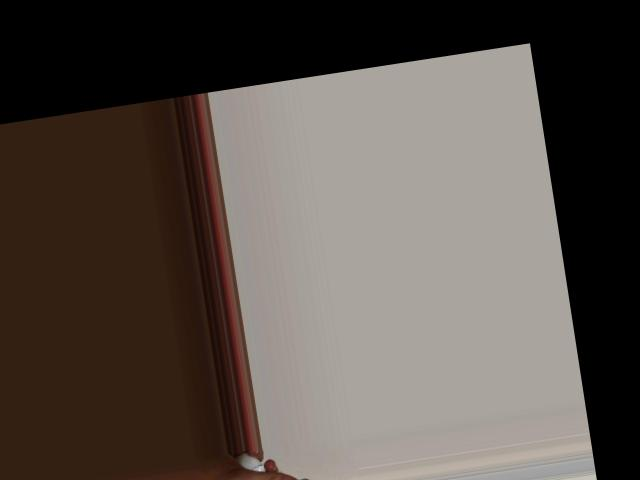egg: (276, 475, 329, 480)
